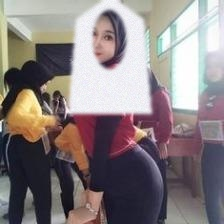Mukena: (67, 0, 152, 113)
